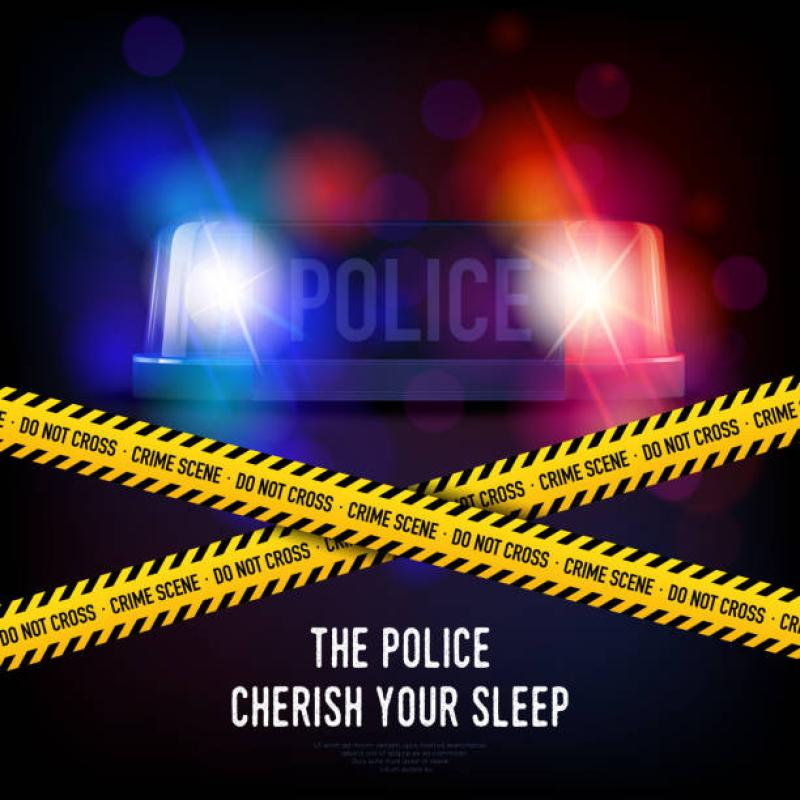AmbulanceSiren: (114, 173, 712, 414)
